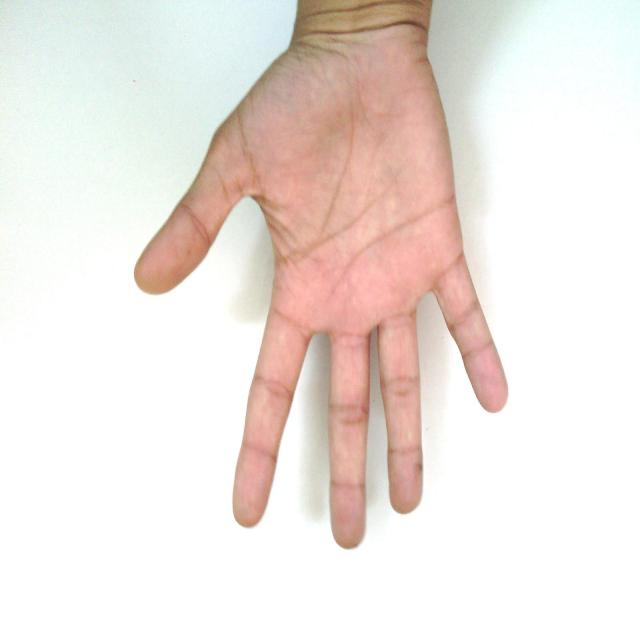others: (120, 0, 536, 550)
